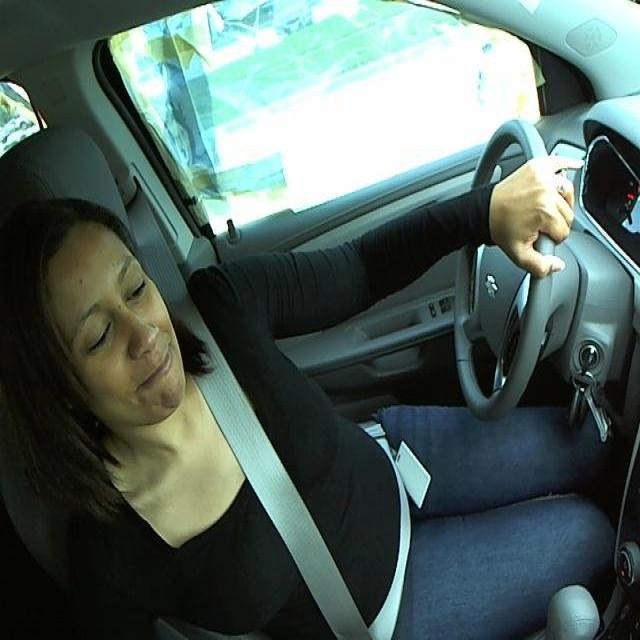seatbelt: (192, 360, 411, 629)
